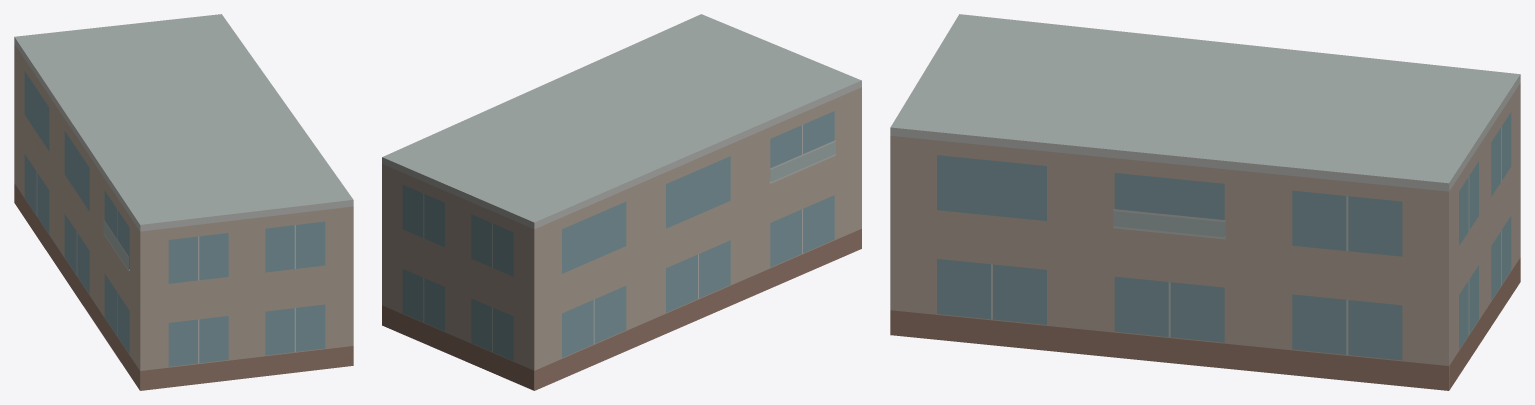
The model's file is survey-upis-32938627.glb.
3 views of the same model, side by side, from view 1: azimuth 30°, elevation 25°; view 2: azimuth 150°, elevation 25°; view 3: azimuth 270°, elevation 25° (orthographic). The views are drawn at different scales.
Visible parts, largest first — view 1: survey-upis-32938627.tmp; view 2: survey-upis-32938627.tmp; view 3: survey-upis-32938627.tmp.
Part boxes in pixels (x1,y1,x2,y2): survey-upis-32938627.tmp: [14, 14, 353, 390]; survey-upis-32938627.tmp: [382, 14, 861, 390]; survey-upis-32938627.tmp: [890, 14, 1520, 390].
Size of the model in its own units: 10.68 by 6.1 by 16.8.
